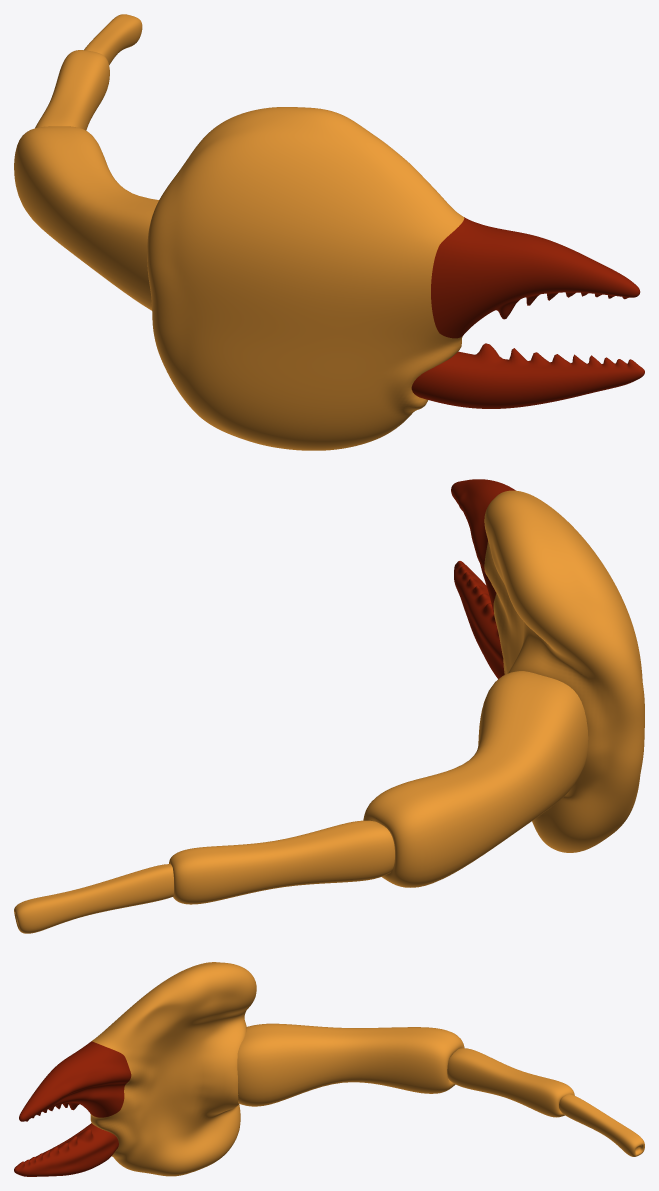
Rendered from Right Claw Scorpion.fbx.
3 renders of one model, top to bottom at view 1: azimuth 30°, elevation 25°; view 2: azimuth 150°, elevation 25°; view 3: azimuth 270°, elevation 25°, orthographic. The views are drawn at different scales.
Visible parts, largest first — view 1: Claw.003, Arm.009, Pincer.003, Arm.010, Arm.011; view 2: Claw.003, Arm.009, Arm.010, Arm.011, Pincer.003; view 3: Claw.003, Arm.009, Arm.010, Pincer.003, Arm.011.
Part boxes in pixels (x1,y1,x2,y2): Claw.003: (147,107,640,450); Arm.009: (14,126,158,310); Pincer.003: (411,343,644,408); Arm.010: (35,50,109,130); Arm.011: (84,14,142,64); Claw.003: (451,479,644,852); Arm.009: (363,671,588,887); Arm.010: (169,820,394,904); Arm.011: (14,864,173,933); Pincer.003: (454,561,504,679); Claw.003: (19,962,256,1176); Arm.009: (237,1023,464,1106); Arm.010: (447,1048,574,1117); Pincer.003: (14,1123,118,1176); Arm.011: (559,1094,644,1156).
Bounding box in the file's own units: 239 × 216 × 585.
